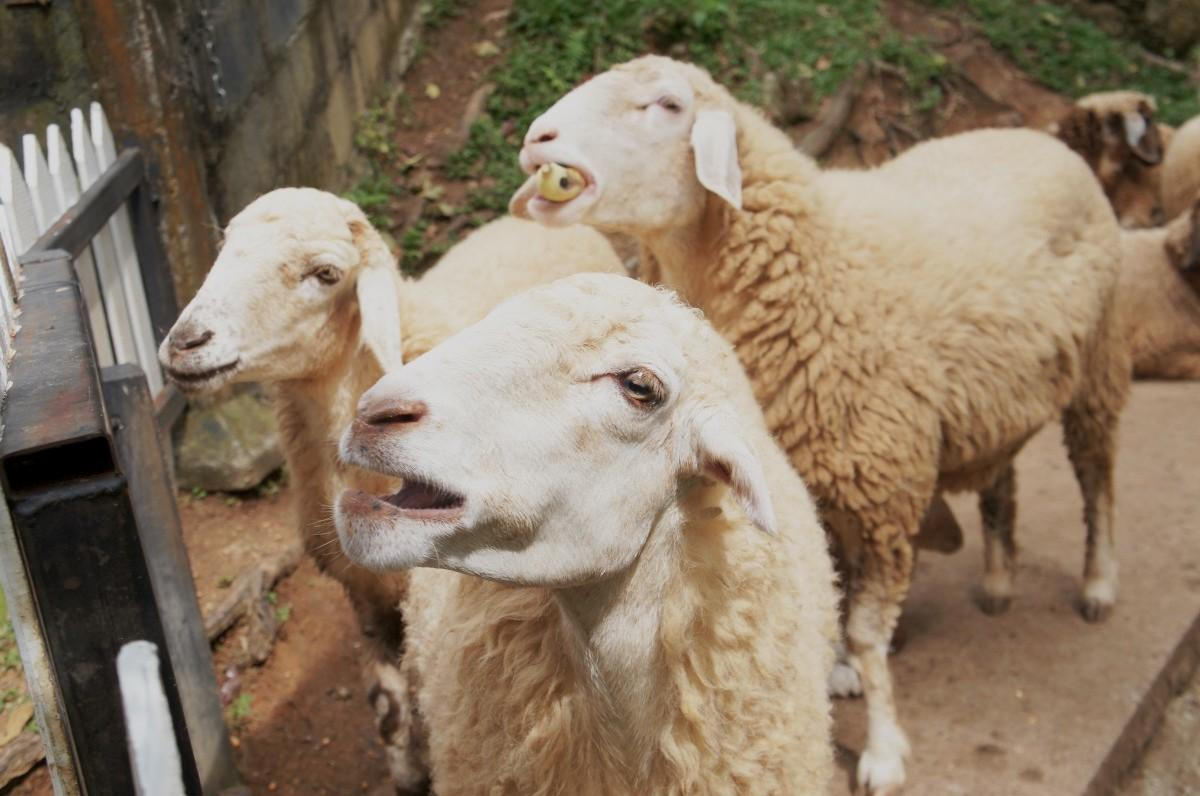Sheep: (300, 252, 849, 640), (156, 147, 415, 425), (500, 37, 788, 262)
